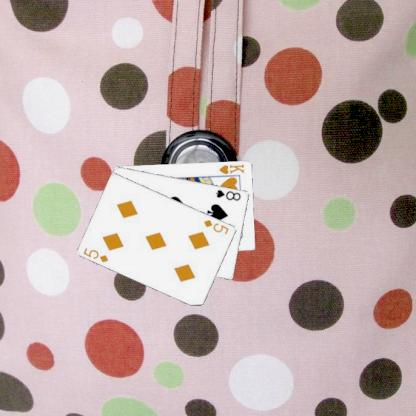5D: (80, 245, 110, 264), (201, 217, 230, 236)
8S: (213, 187, 242, 202)
KH: (216, 162, 245, 176)
